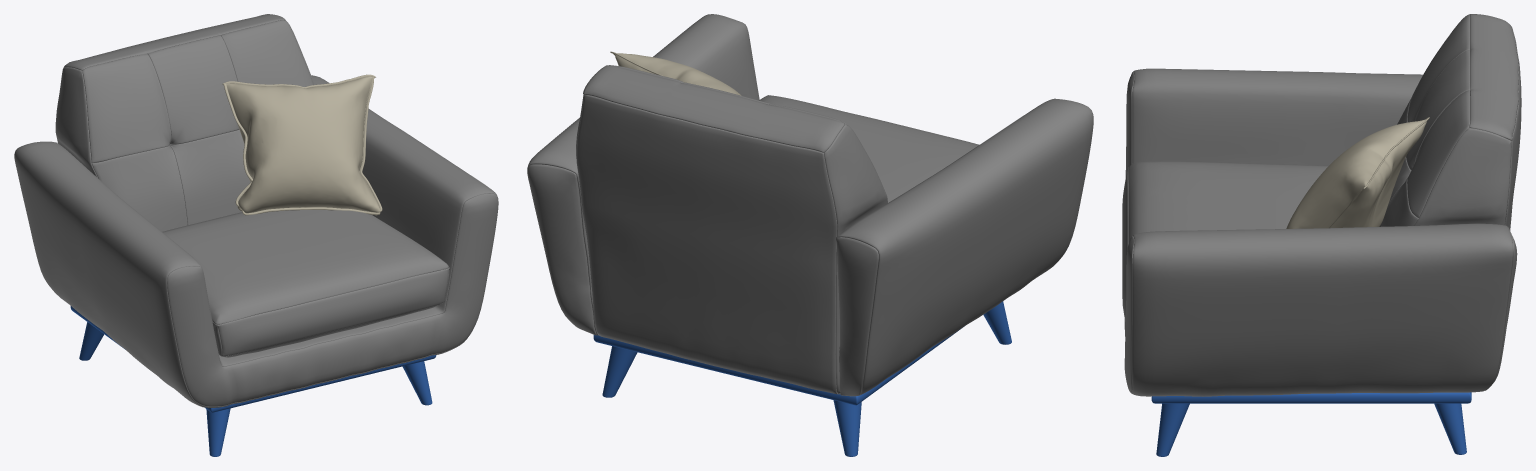
File: Hughes Chair_smooth_fbx.FBX
3 views of the same model, side by side, from view 1: azimuth 30°, elevation 25°; view 2: azimuth 150°, elevation 25°; view 3: azimuth 270°, elevation 25° (orthographic). The views are drawn at different scales.
Parts seen in each view (by area): view 1: 7cgi_Joybird Hughes Chair01, 7cgi_Joybird Hughes Chair03, 7cgi_Joybird Hughes Chair02, 7cgi_Joybird Hughes Chair04, 7cgi_Joybird Hughes Chair00; view 2: 7cgi_Joybird Hughes Chair03, 7cgi_Joybird Hughes Chair01, 7cgi_Joybird Hughes Chair02, 7cgi_Joybird Hughes Chair00, 7cgi_Joybird Hughes Chair04; view 3: 7cgi_Joybird Hughes Chair01, 7cgi_Joybird Hughes Chair03, 7cgi_Joybird Hughes Chair02, 7cgi_Joybird Hughes Chair04, 7cgi_Joybird Hughes Chair00.
Part boxes in pixels (x1=…): 7cgi_Joybird Hughes Chair01: x1=14, y1=75, x2=498, y2=407; 7cgi_Joybird Hughes Chair03: x1=55, y1=14, x2=314, y2=231; 7cgi_Joybird Hughes Chair02: x1=162, y1=210, x2=449, y2=357; 7cgi_Joybird Hughes Chair04: x1=222, y1=74, x2=382, y2=215; 7cgi_Joybird Hughes Chair00: x1=70, y1=306, x2=436, y2=456; 7cgi_Joybird Hughes Chair03: x1=576, y1=65, x2=887, y2=394; 7cgi_Joybird Hughes Chair01: x1=527, y1=14, x2=1093, y2=396; 7cgi_Joybird Hughes Chair02: x1=759, y1=95, x2=979, y2=202; 7cgi_Joybird Hughes Chair00: x1=593, y1=301, x2=1011, y2=456; 7cgi_Joybird Hughes Chair04: x1=610, y1=51, x2=741, y2=95; 7cgi_Joybird Hughes Chair01: x1=1124, y1=68, x2=1517, y2=396; 7cgi_Joybird Hughes Chair03: x1=1379, y1=14, x2=1521, y2=230; 7cgi_Joybird Hughes Chair02: x1=1122, y1=161, x2=1328, y2=321; 7cgi_Joybird Hughes Chair04: x1=1286, y1=117, x2=1429, y2=228; 7cgi_Joybird Hughes Chair00: x1=1151, y1=392, x2=1471, y2=456.
Bounding box in the file's own units: 107 × 87.07 × 96.6.
